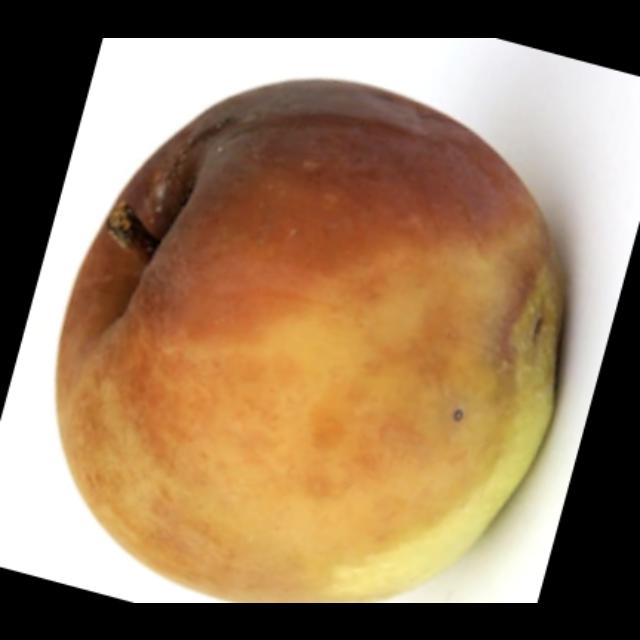Apel Tidak Segar: (46, 69, 574, 603)
